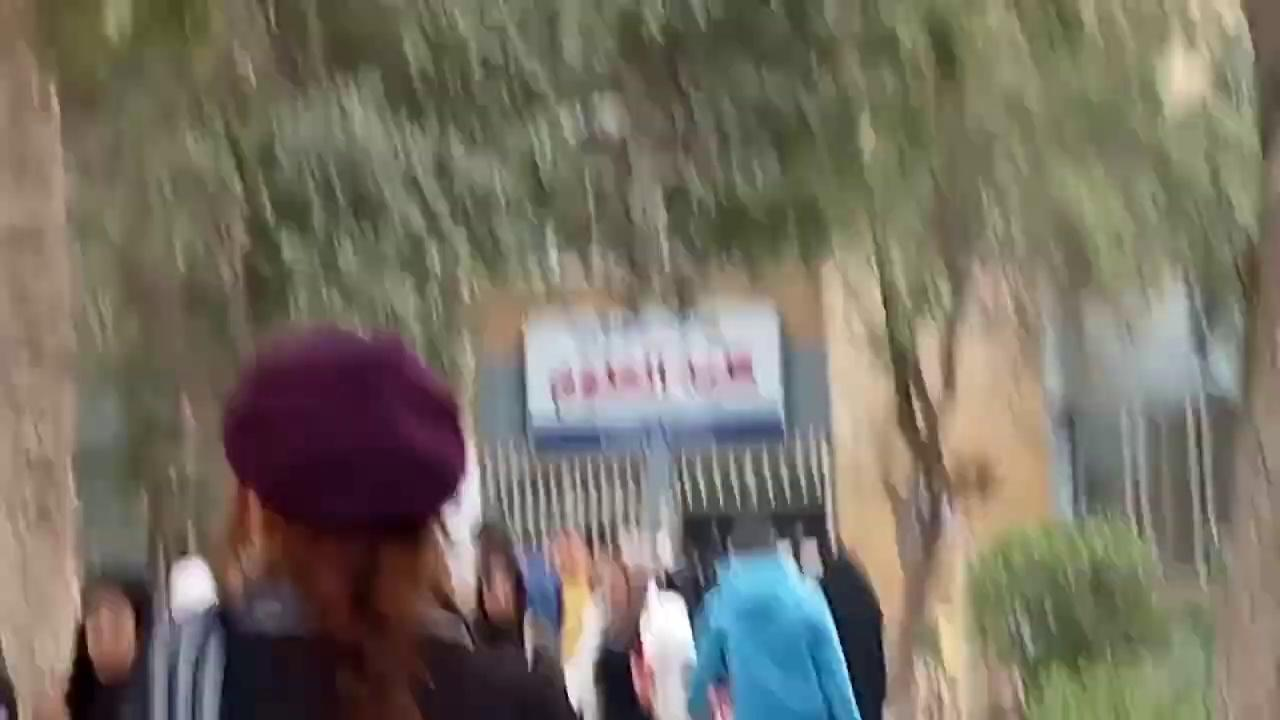person: (107, 306, 576, 716), (63, 576, 149, 719)
tree: (642, 0, 1268, 717), (964, 507, 1216, 718)
